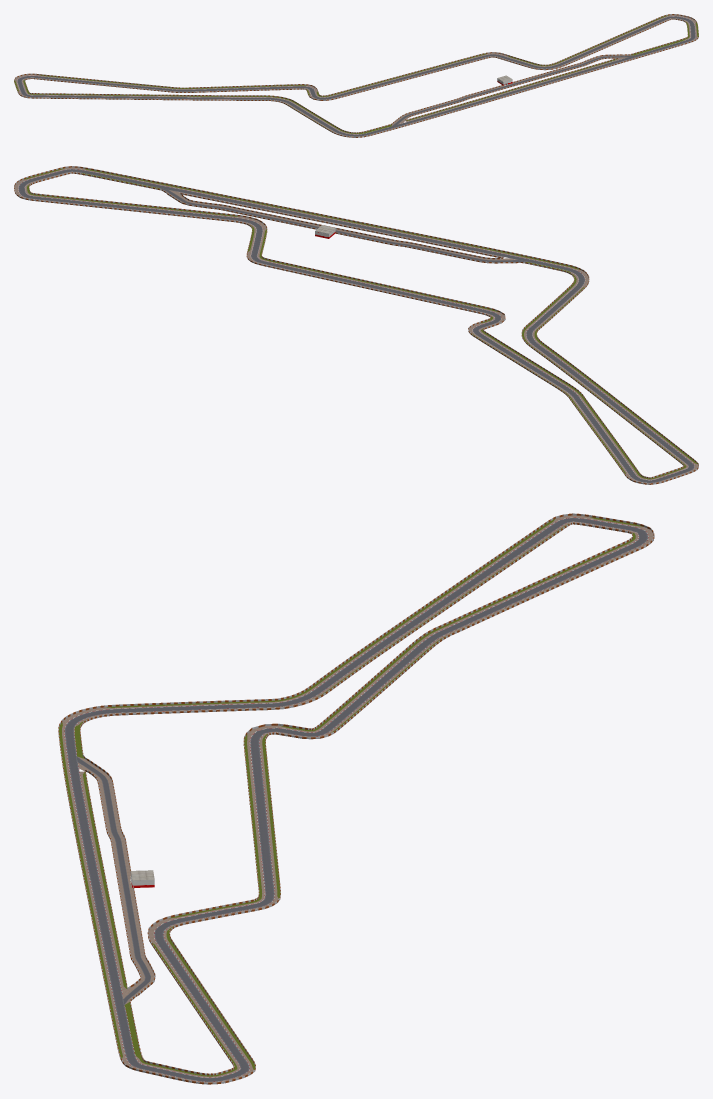
File: track+box.fbx
3 views of the same model, one above another, from view 1: azimuth 30°, elevation 25°; view 2: azimuth 150°, elevation 25°; view 3: azimuth 270°, elevation 25° (orthographic). The views are drawn at different scales.
Parts seen in each view (by area): view 1: Cube.001; view 2: Cube.001; view 3: Cube.001.
Part boxes in pixels (box(x1,y1,x2,y2)): Cube.001: box(14, 14, 698, 137); Cube.001: box(14, 166, 698, 484); Cube.001: box(58, 513, 654, 1084).
Size of the model in its own units: 147778 by 1077 by 65376.
